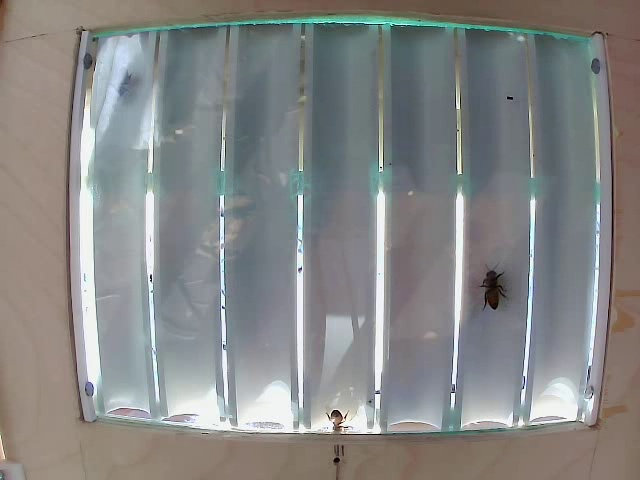bee: (467, 261, 509, 317)
